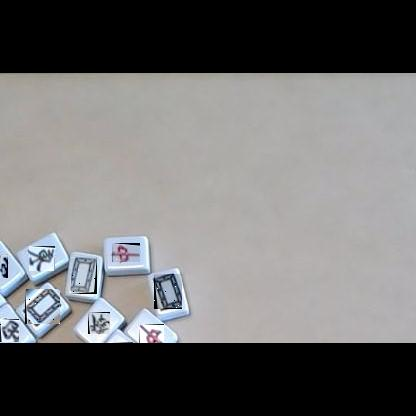1z: (29, 246, 55, 271)
3z: (0, 319, 19, 342)
4z: (0, 254, 8, 278), (109, 342, 133, 343)
5z: (25, 288, 60, 324), (154, 274, 182, 309), (71, 257, 97, 294)
6z: (88, 312, 110, 334)
7z: (112, 243, 140, 262), (139, 324, 164, 343)
